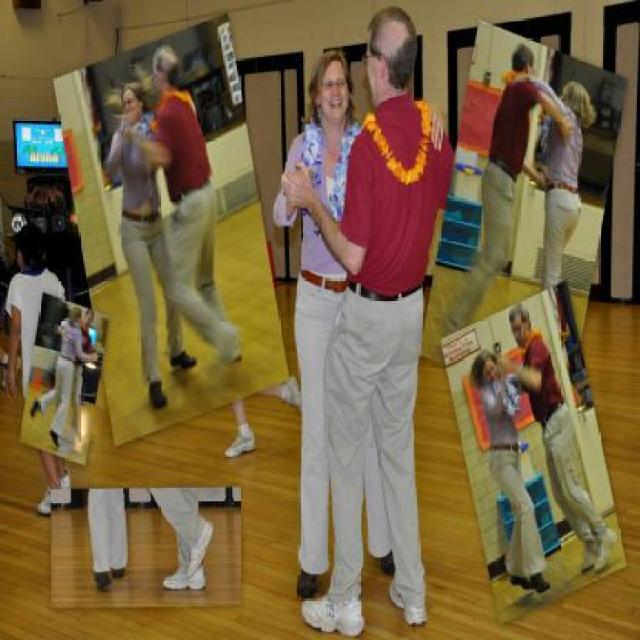Person: (281, 4, 454, 638), (271, 48, 447, 600), (117, 46, 243, 368), (445, 41, 573, 339), (492, 300, 620, 578), (101, 83, 199, 417), (465, 343, 553, 597), (3, 218, 69, 517), (510, 71, 595, 292), (28, 309, 98, 448), (150, 488, 216, 590), (56, 309, 96, 440), (85, 486, 129, 594)
